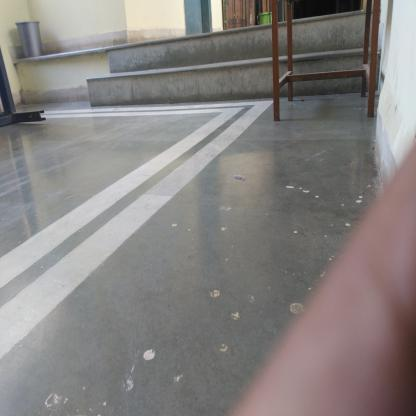stairs: (113, 42, 270, 113)
